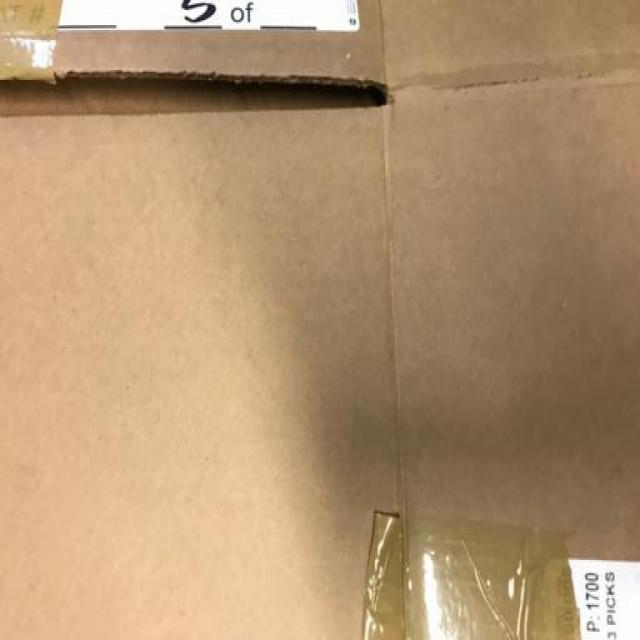cardboard: (3, 6, 640, 640)
